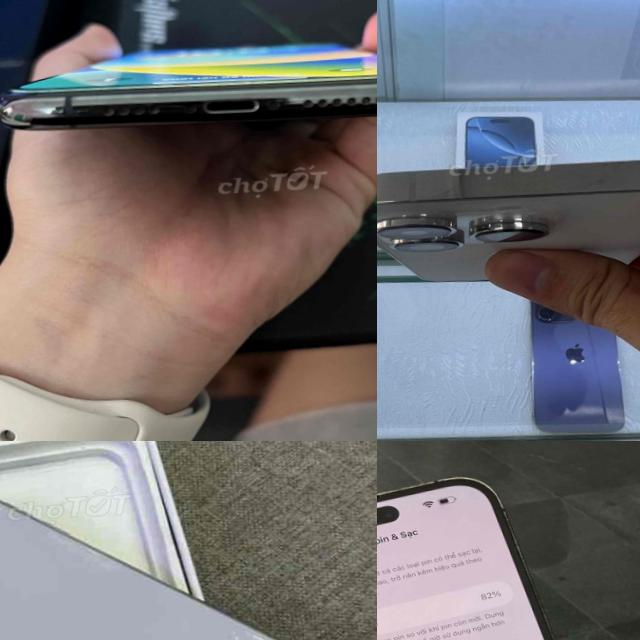gen_11: (0, 43, 377, 129)
gen_14: (377, 136, 640, 319), (377, 466, 640, 640)
gen_x_xs: (0, 441, 364, 640)
